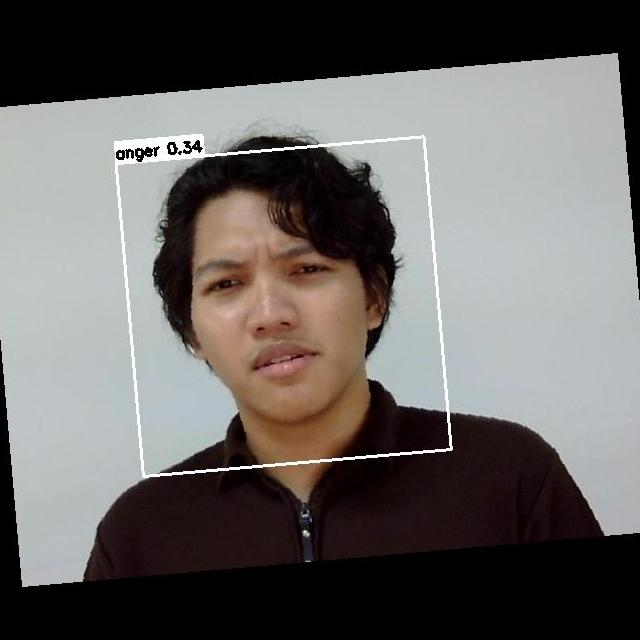Fear: (171, 236, 384, 402)
